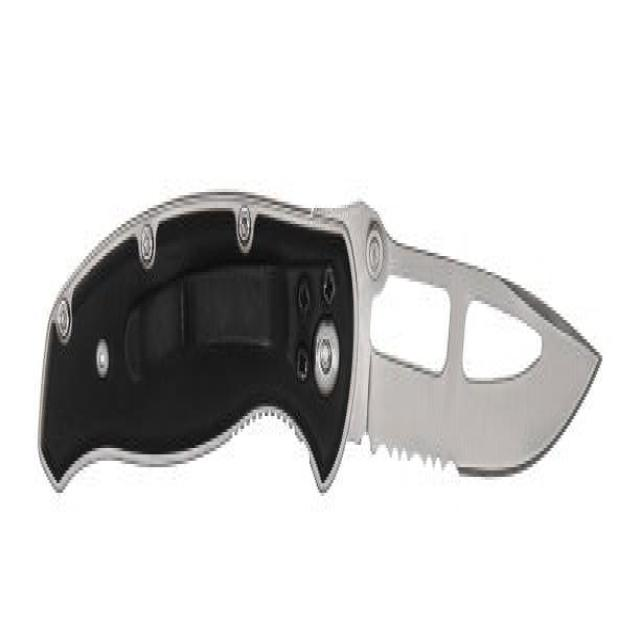knife: (37, 165, 608, 519)
